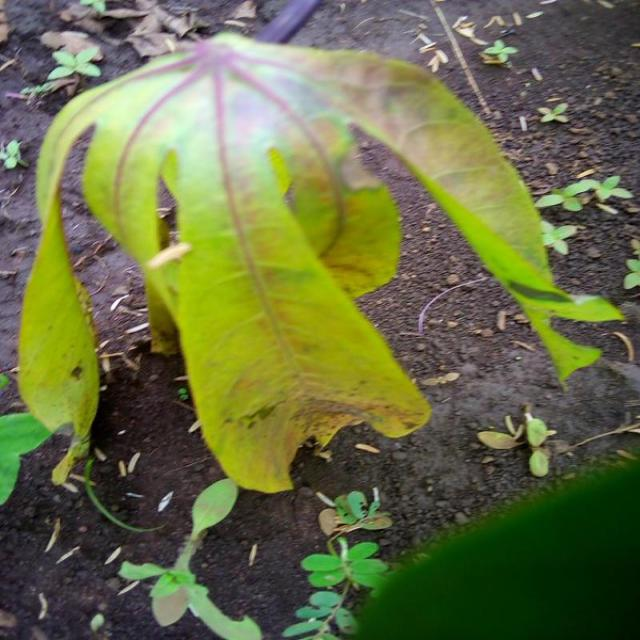cassava leaf: (14, 30, 626, 499)
